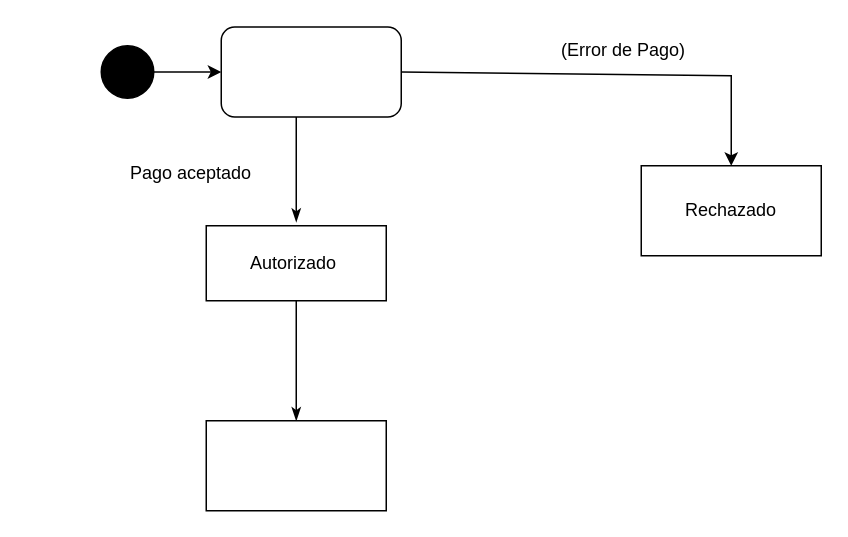
Image size: 848x537. Some labels were removed from this diagram. The shapes that lost their labels are listed below. From the top down, each one's centre as x and y in pixels, then its label:
point (310, 71): Pago Membrecía
point (295, 465): Se le presta el servisio del Gimnasiao
